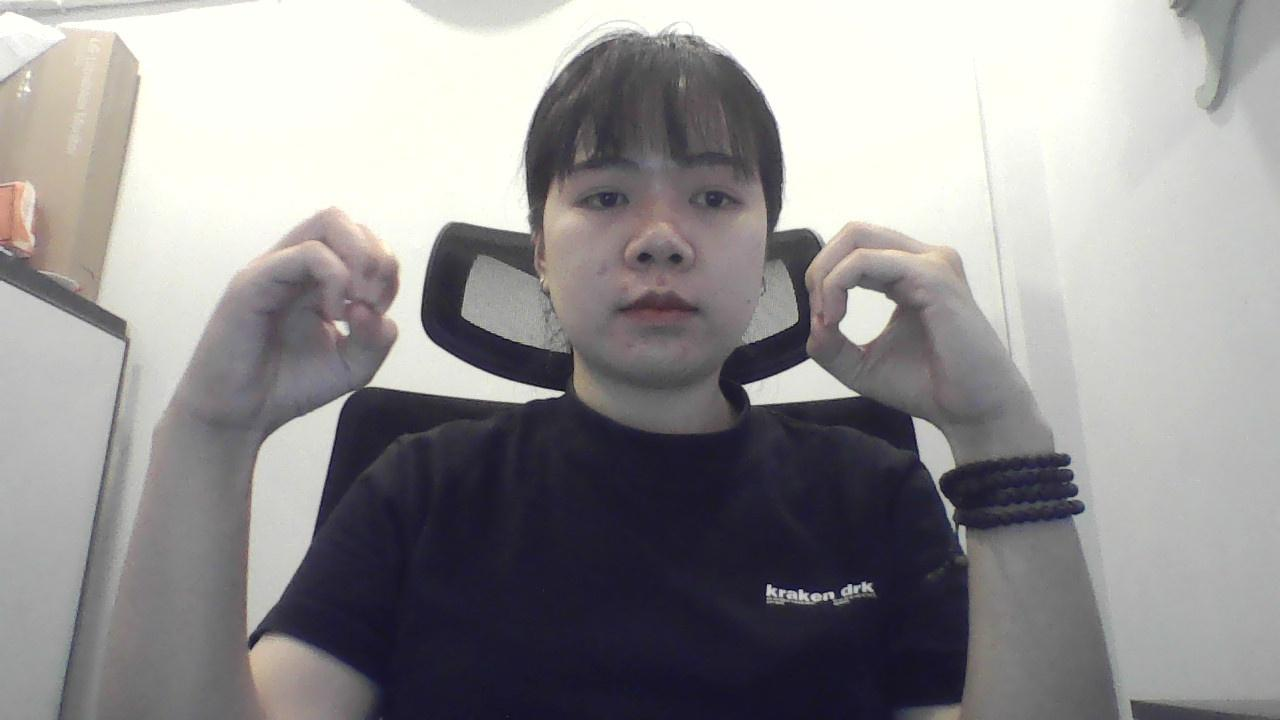O: (160, 189, 427, 438), (802, 197, 1009, 429)
